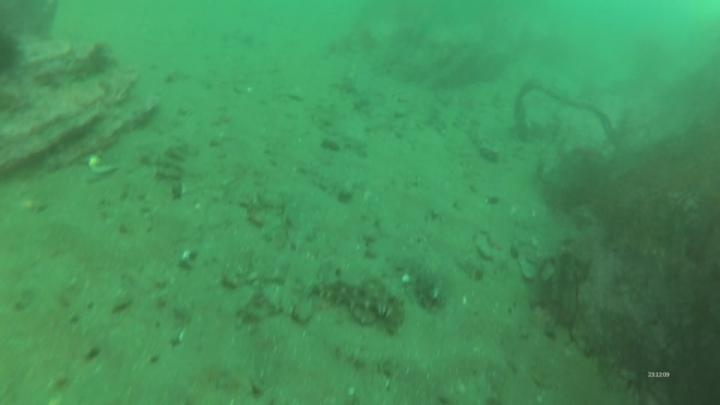holothurian: (312, 269, 409, 332)
waterweeds: (556, 94, 720, 405)
